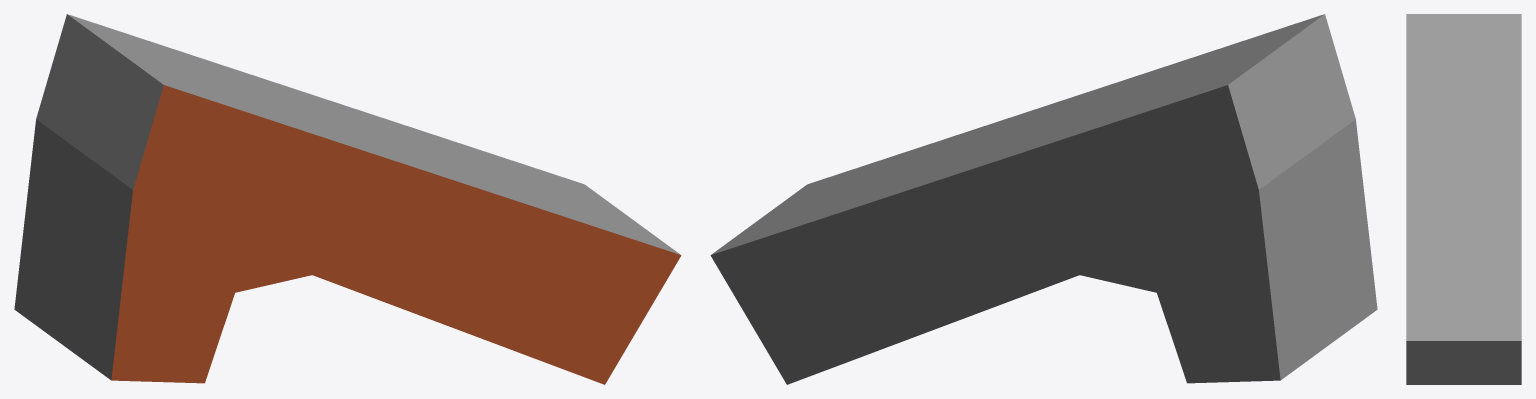
File: construction_0671_assumed_A_Casa_h6m.obj
3 views of the same model, side by side, from view 1: azimuth 30°, elevation 25°; view 2: azimuth 150°, elevation 25°; view 3: azimuth 270°, elevation 25° (orthographic). The views are drawn at different scales.
Parts seen in each view (by area): view 1: construction_0671_assumed_A_Casa; view 2: construction_0671_assumed_A_Casa; view 3: construction_0671_assumed_A_Casa.
Boxes of the visible parts, x1,y1,x2,y2 form: construction_0671_assumed_A_Casa: [14, 14, 681, 384]; construction_0671_assumed_A_Casa: [710, 14, 1377, 384]; construction_0671_assumed_A_Casa: [1406, 14, 1521, 384].
Bounding box in the file's own units: 20.37 × 13.91 × 6.
